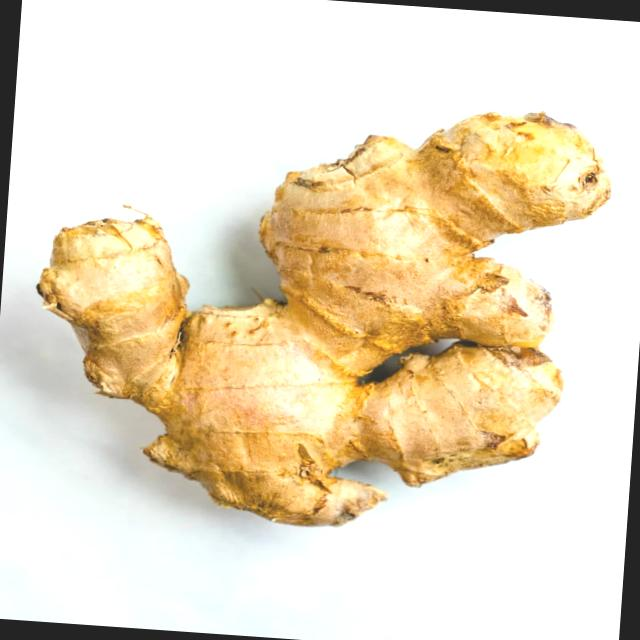lemon: (7, 63, 634, 567)
